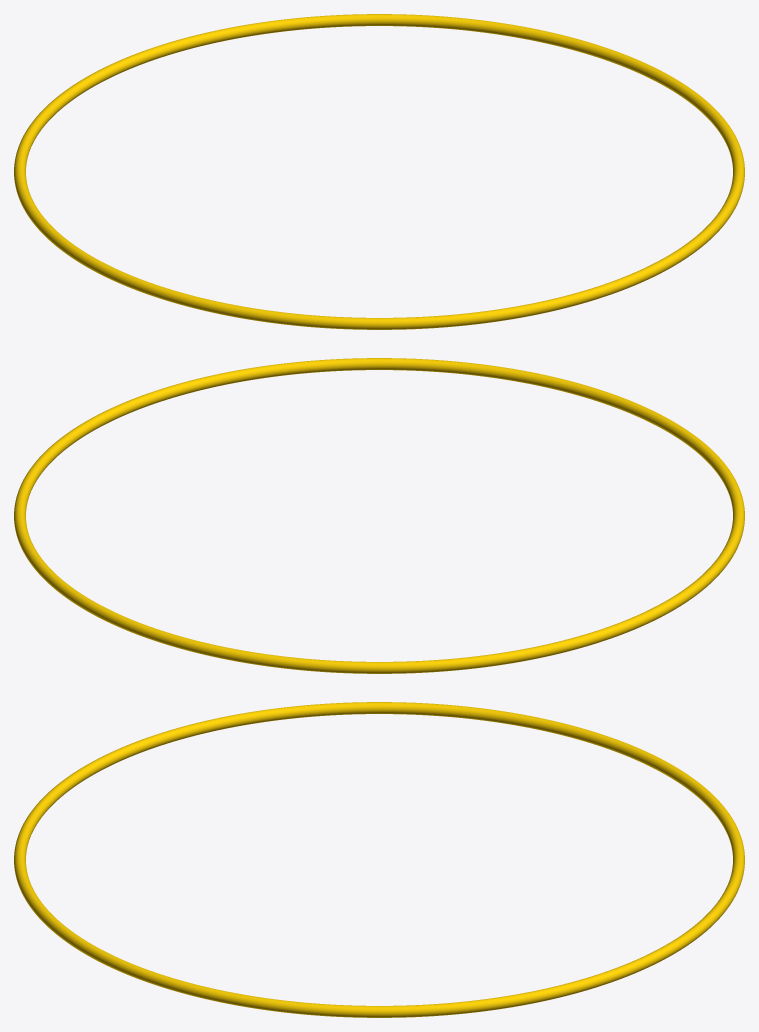
Rendered from torus_gold.gltf.
3 views of the same model, one above another, from view 1: azimuth 30°, elevation 25°; view 2: azimuth 150°, elevation 25°; view 3: azimuth 270°, elevation 25° (orthographic).
Visible parts, largest first — view 1: sopimport1; view 2: sopimport1; view 3: sopimport1.
Boxes of the visible parts, box(x1,y1,x2,y2) form: sopimport1: box(14, 14, 744, 329); sopimport1: box(14, 358, 744, 673); sopimport1: box(14, 702, 744, 1017).
Size of the model in its own units: 12.2 by 0.2 by 12.2.
